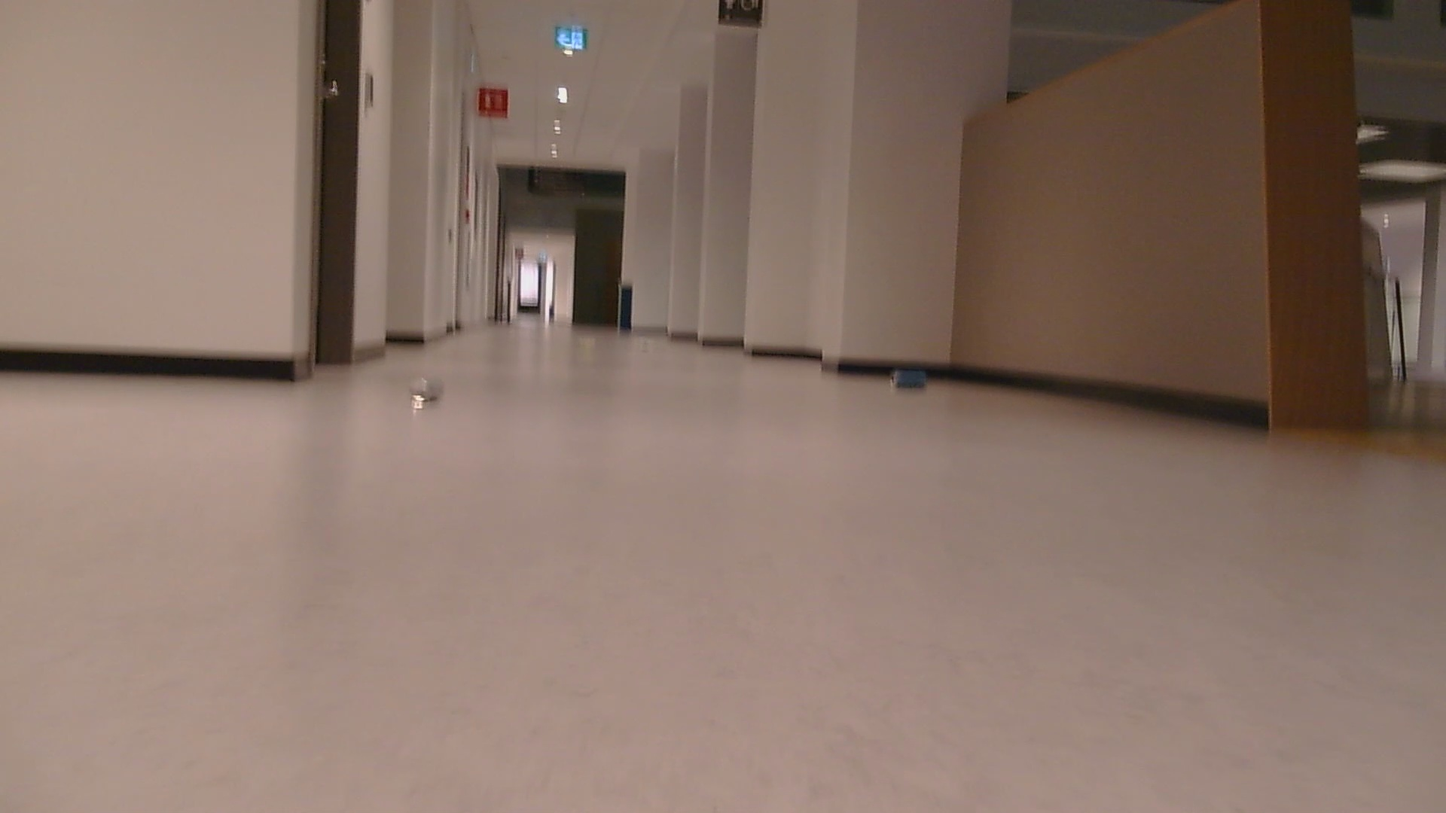carton: (393, 373, 452, 411), (890, 358, 935, 394)
